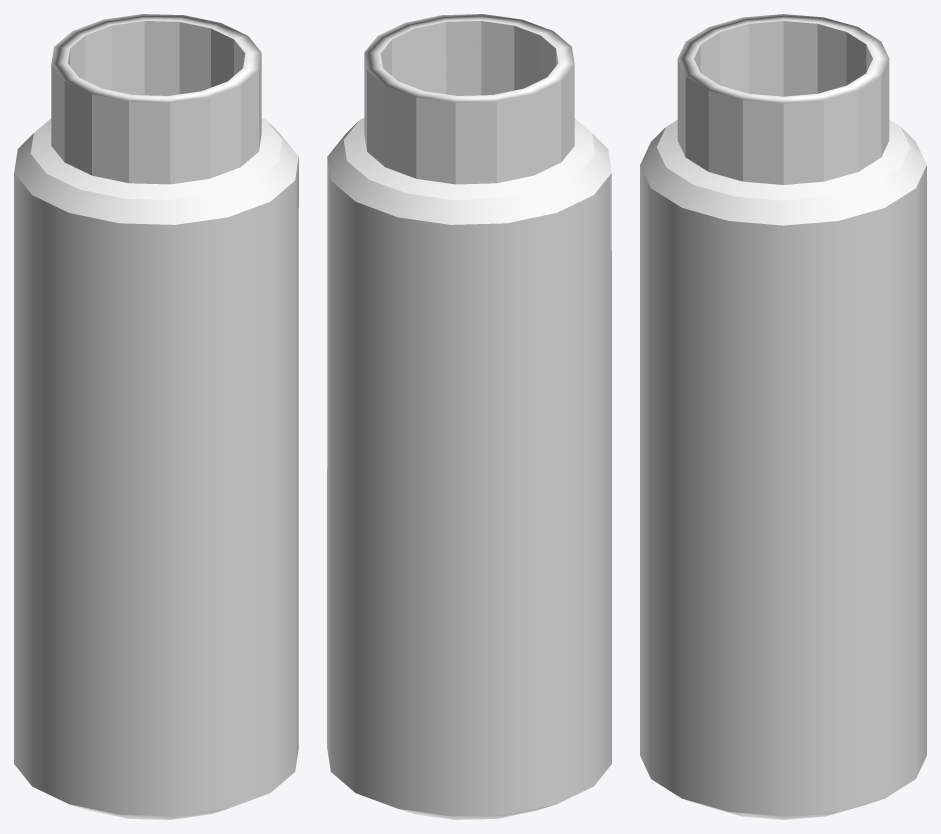
The model's file is Flask_small.fbx.
3 views of the same model, side by side, from view 1: azimuth 30°, elevation 25°; view 2: azimuth 150°, elevation 25°; view 3: azimuth 270°, elevation 25° (orthographic).
Visible parts, largest first — view 1: Flask_small; view 2: Flask_small; view 3: Flask_small.
Boxes of the visible parts, x1=… form: Flask_small: x1=14, y1=14, x2=298, y2=819; Flask_small: x1=327, y1=14, x2=611, y2=819; Flask_small: x1=640, y1=14, x2=926, y2=819.
Bounding box in the file's own units: 165 × 454 × 165.
1 material, 1 textured.
